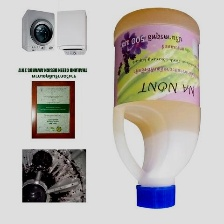cleaning_solution: (111, 6, 202, 214)
